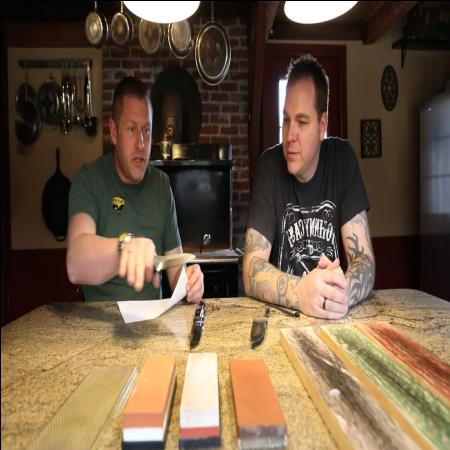long weapon: (129, 227, 201, 289)
